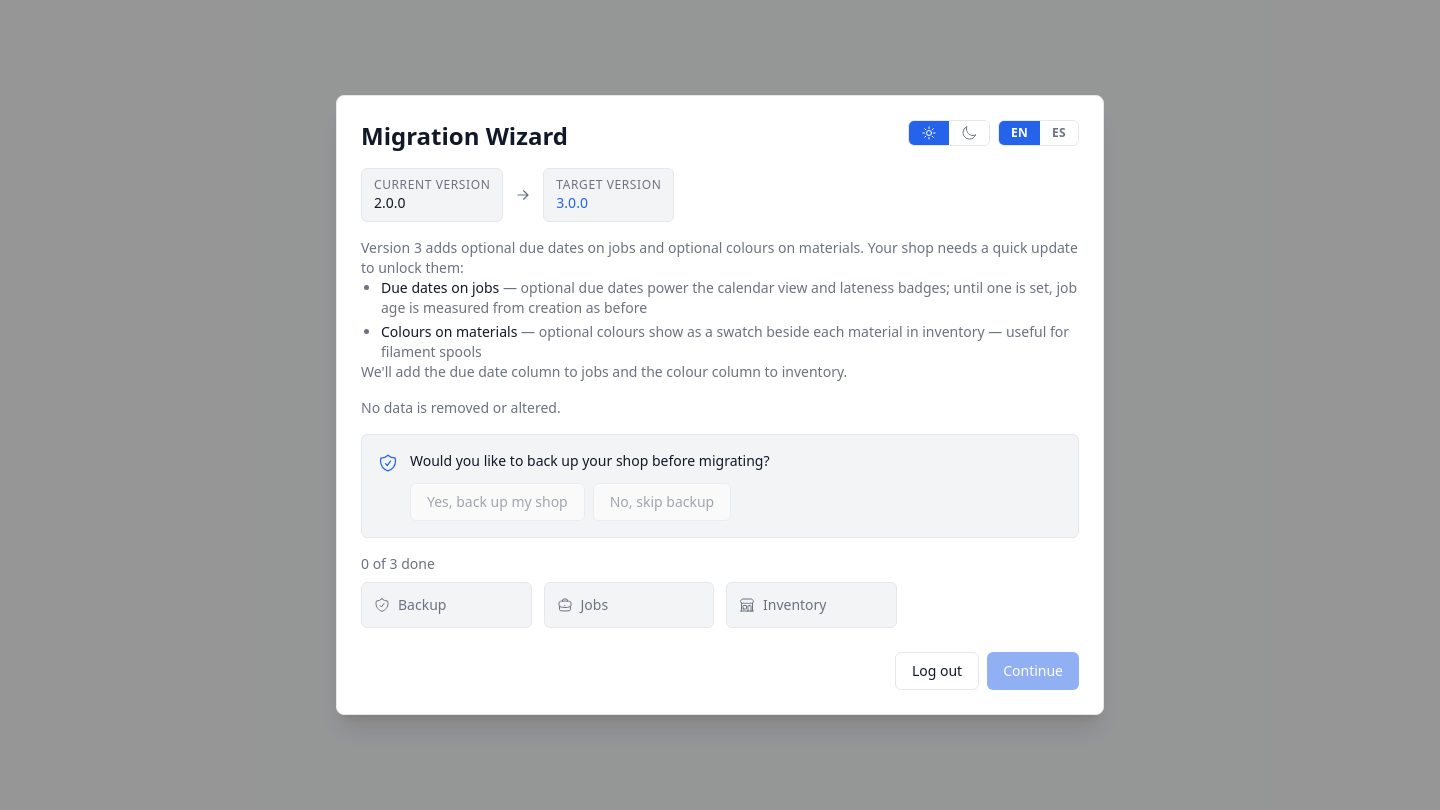
it: MigrationWizardModal › counts the skipped backup toward the summary
Step 1. Click the button with test id "wizard-backup-no" → (662,502), box top-left (593, 483), bottom-right (731, 521)
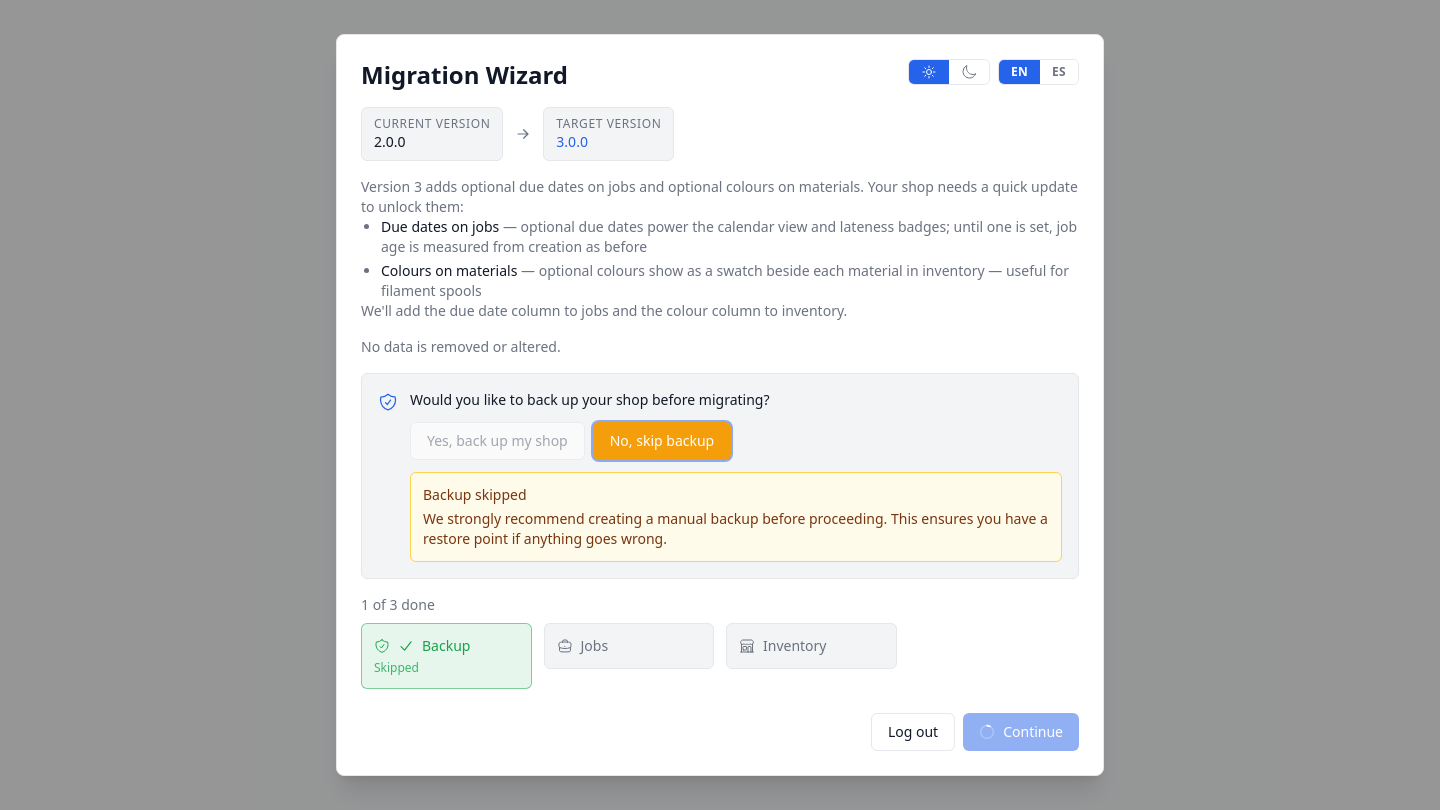
expect the text with test id "wizard-migration-summary" reads "1 of 3 done": met, box top-left (361, 595), bottom-right (435, 614)
